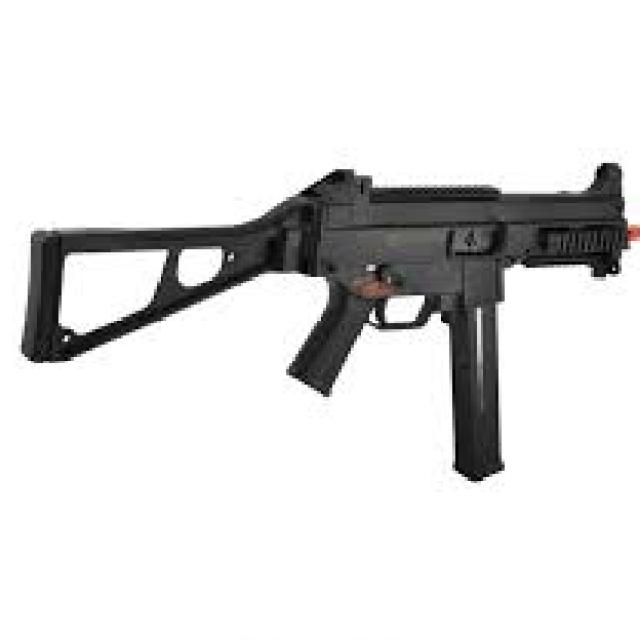Gun: (31, 163, 640, 514)
